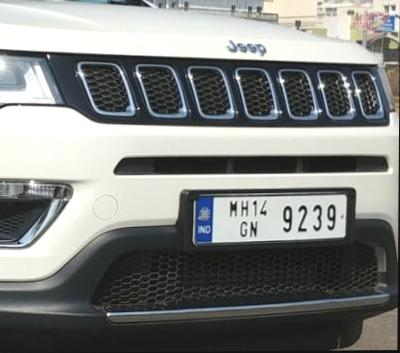License_Plate: (194, 193, 349, 243)
